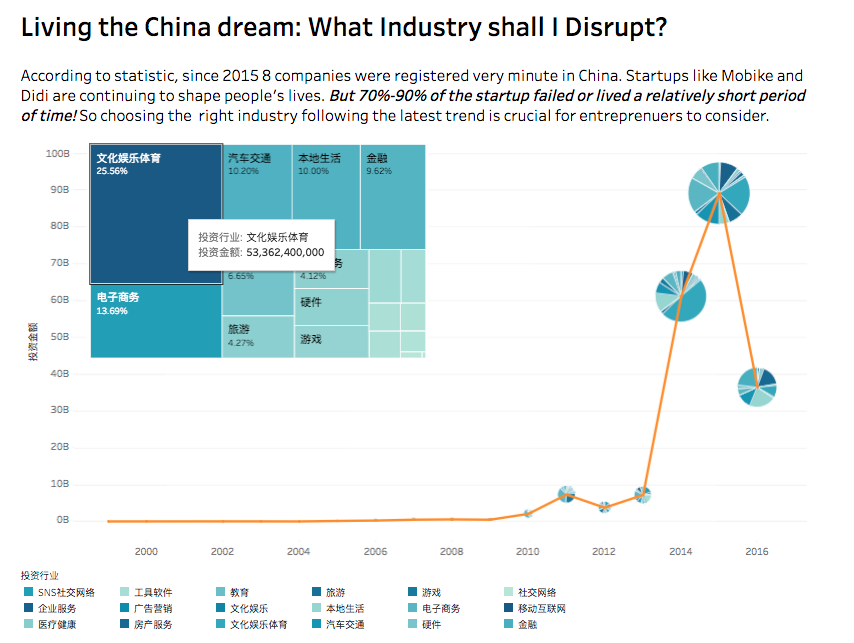

The dashboard page shown, as its layout file describes it:
{"tool":"tableau","page":{"name":"Sell-what","canvas":[1000,800],"ordinal":5},"visuals":[{"type":"text","box":[0,0,996,57.4]},{"type":"text","box":[0,57.4,996,120.6]},{"type":"worksheet","title":"tree","mark":"Automatic","box":[91,175,426,275]},{"type":"worksheet","title":"line","mark":"Automatic","rows":["投资金额","Calculation_386746633072549889"],"cols":["投资时间"],"box":[0,178,996,528]},{"type":"legend","title":"line","param":"[federated.0ub7l0q00anu83163d9jd0t0r5fl].[none:投资行业:nk]","box":[0,706,1000,94]}]}

Visuals, with their boxes on the page's 1000x800 design canvas (x1, y1, x2, y2). These are canvas units, not pixel positions in the 854x643 screenshot, which may show the page scaled, cropped or inside an application window:
text: detection(0, 0, 996, 57)
text: detection(0, 57, 996, 178)
"tree" worksheet: detection(91, 175, 517, 450)
"line" worksheet: detection(0, 178, 996, 706)
"line" legend: detection(0, 706, 1000, 800)
